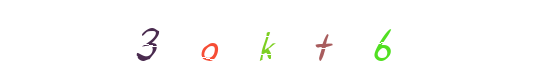3: (109, 0, 189, 80)
6: (300, 0, 380, 80)
K: (222, 0, 302, 80)
O: (219, 0, 299, 80)
T: (237, 0, 317, 80)
